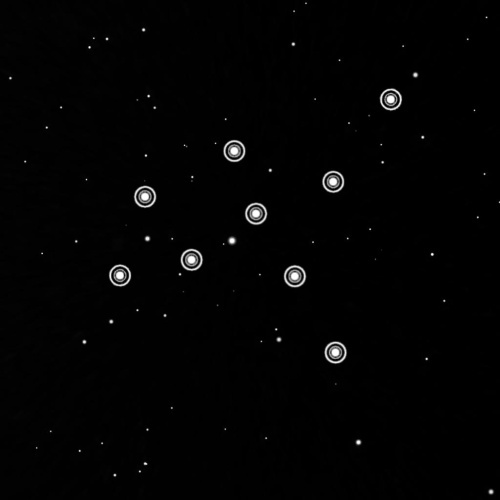cygnus: (104, 81, 408, 370)
